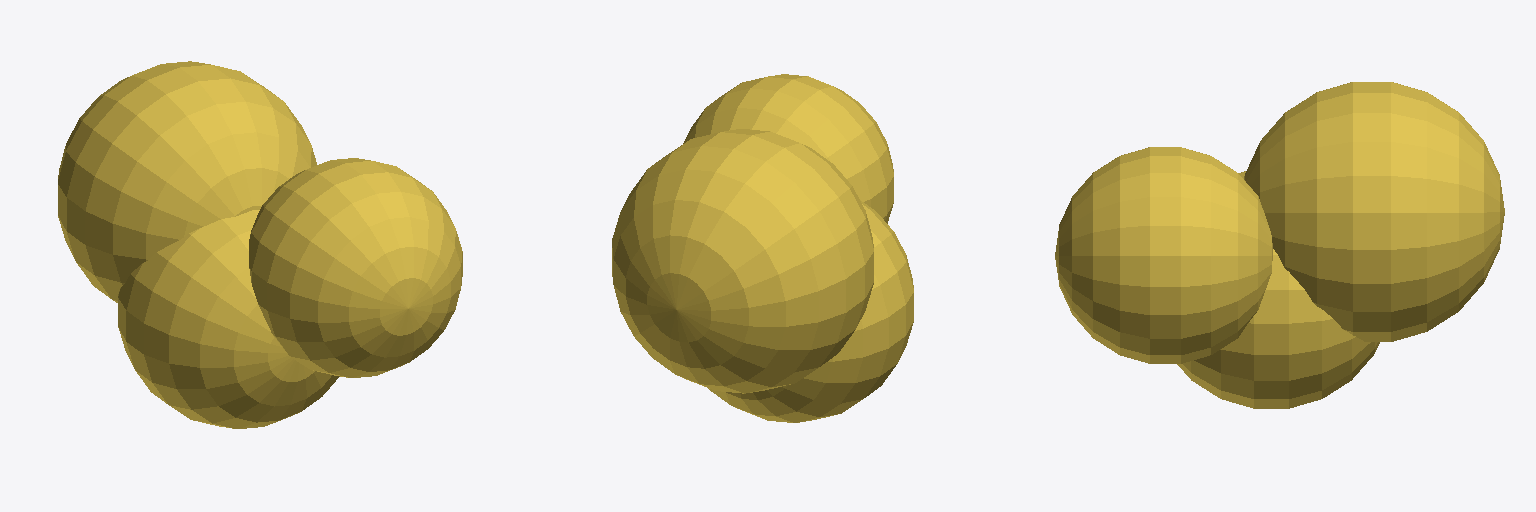
File: smoke.obj
3 renders of one model, left to right at view 1: azimuth 30°, elevation 25°; view 2: azimuth 150°, elevation 25°; view 3: azimuth 270°, elevation 25°, orthographic.
Parts seen in each view (by area): view 1: smoke; view 2: smoke; view 3: smoke.
Boxes of the visible parts, x1,y1,x2,y2 form: smoke: [58, 61, 462, 428]; smoke: [612, 74, 913, 422]; smoke: [1055, 82, 1504, 408].
Bounding box in the file's own units: 4.41 × 4.81 × 6.42.